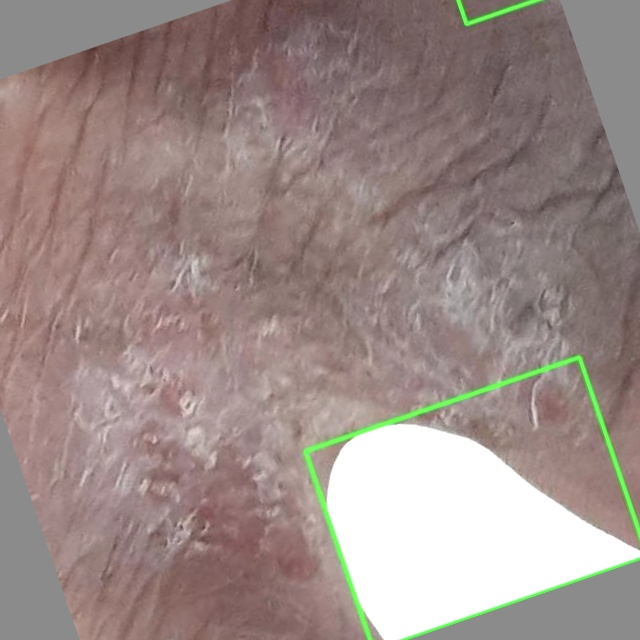Eczema: (305, 357, 639, 639)
